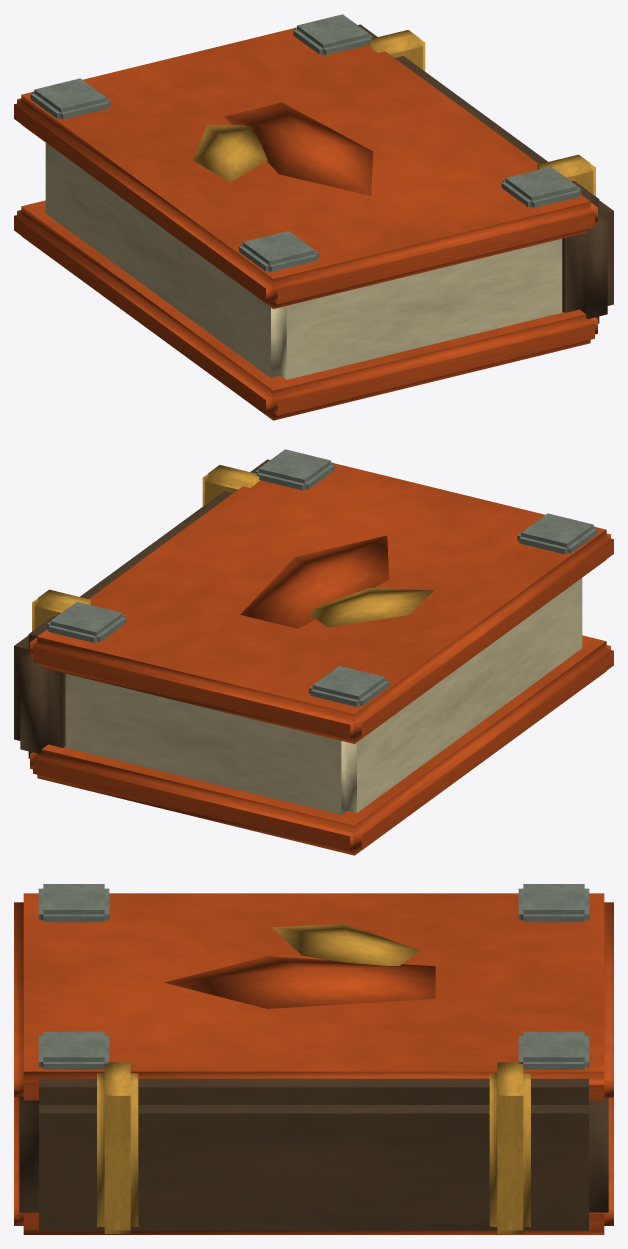
File: item-KindleFlameGrimoire.fbx
The picture shows the model from 3 angles, top to bottom: view 1: azimuth 30°, elevation 25°; view 2: azimuth 150°, elevation 25°; view 3: azimuth 270°, elevation 25°; orthographic projection. The views are drawn at different scales.
Parts seen in each view (by area): view 1: item-KindleFlameGrimoire__Geometry; view 2: item-KindleFlameGrimoire__Geometry; view 3: item-KindleFlameGrimoire__Geometry.
Boxes of the visible parts, x1,y1,x2,y2 form: item-KindleFlameGrimoire__Geometry: (14,14,613,420); item-KindleFlameGrimoire__Geometry: (14,449,613,855); item-KindleFlameGrimoire__Geometry: (14,884,613,1234).
Size of the model in its own units: 0.445 by 0.1785 by 0.55.
1 material, 1 textured.
